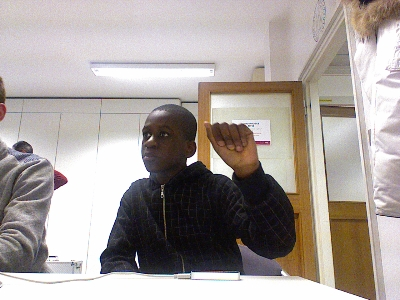石头: (202, 119, 260, 170)
